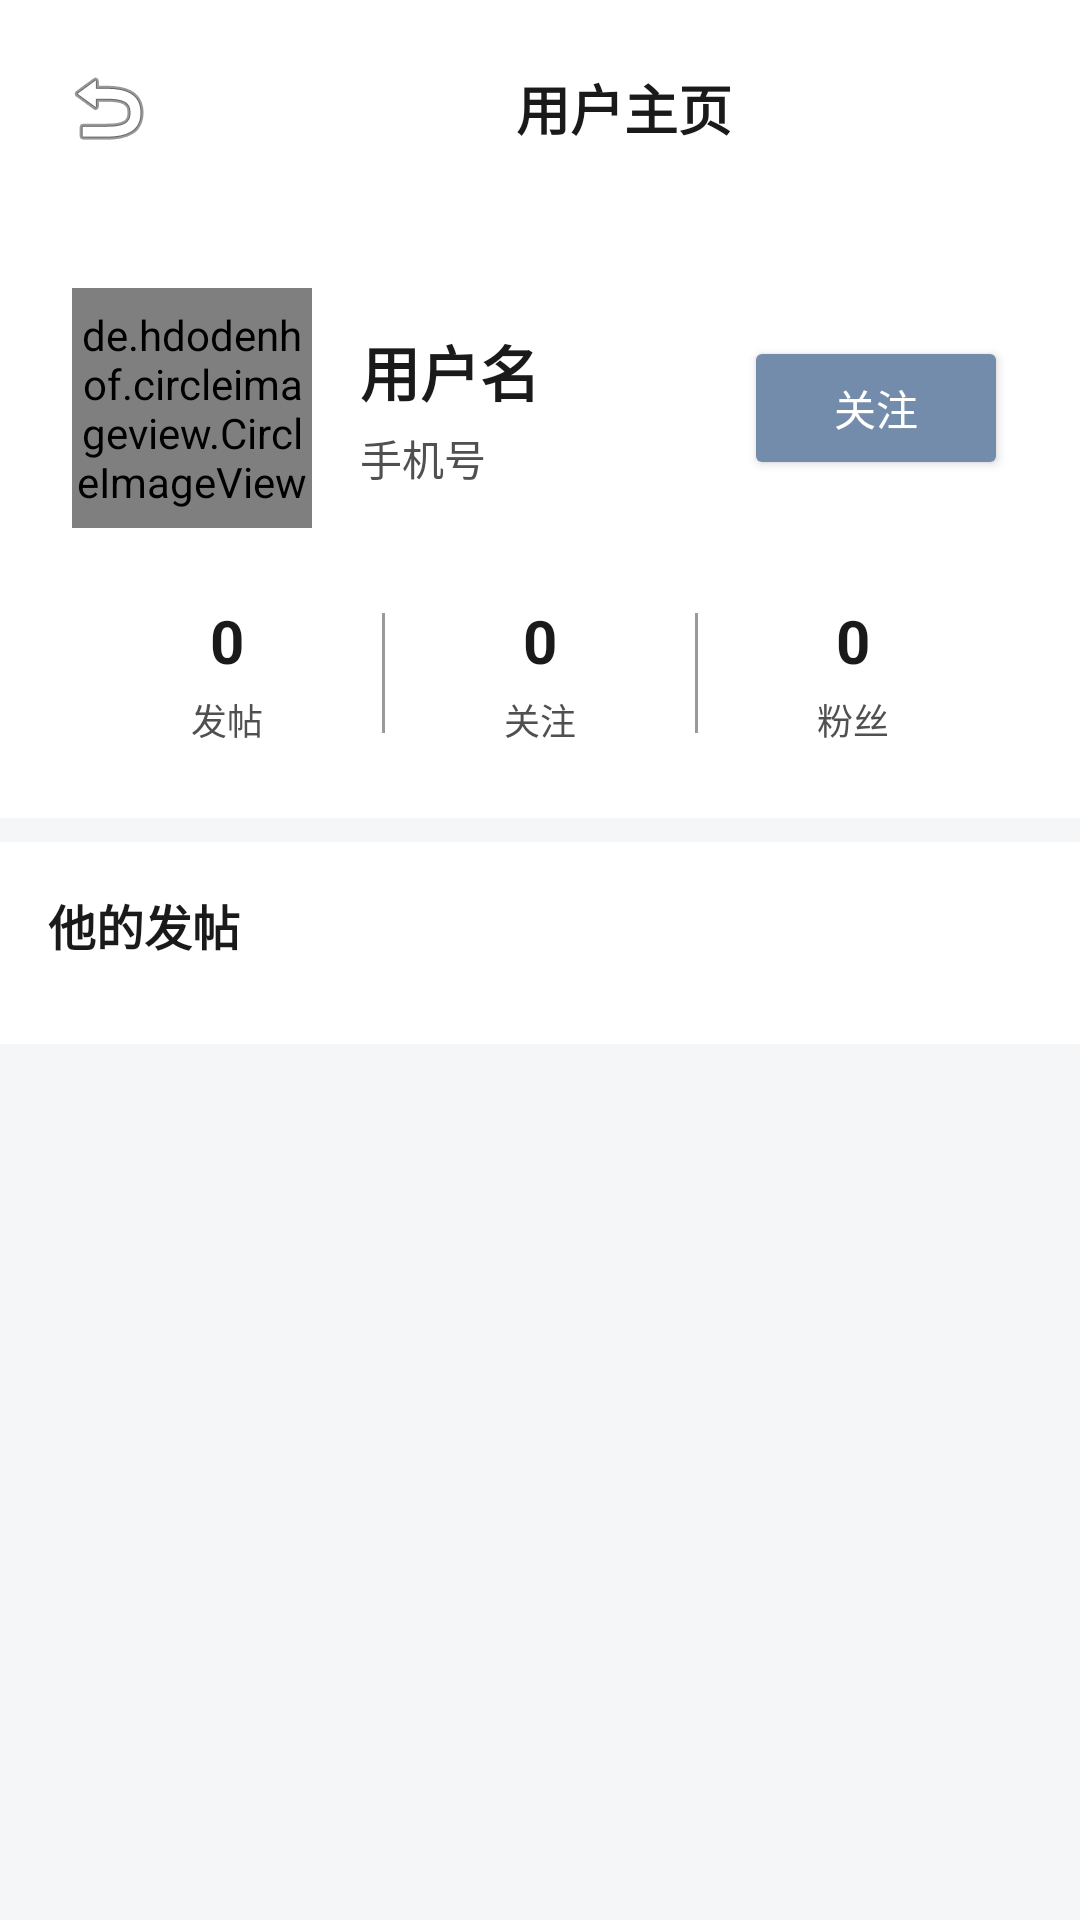

Icon bounding boxes for this 1080x1920 phone screenshot, format (x1, y1, x2, y2):
返回: (75, 77, 144, 140)
